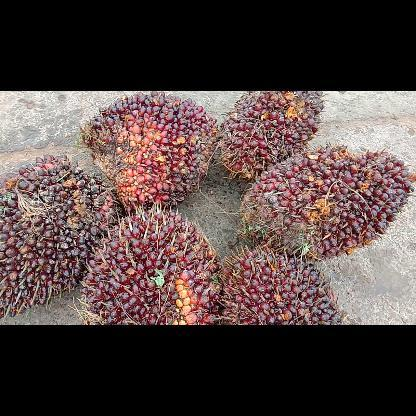Kurang masak: (236, 141, 416, 262), (0, 152, 120, 320), (78, 90, 220, 212), (79, 206, 223, 324), (201, 240, 351, 324), (214, 90, 328, 184)
